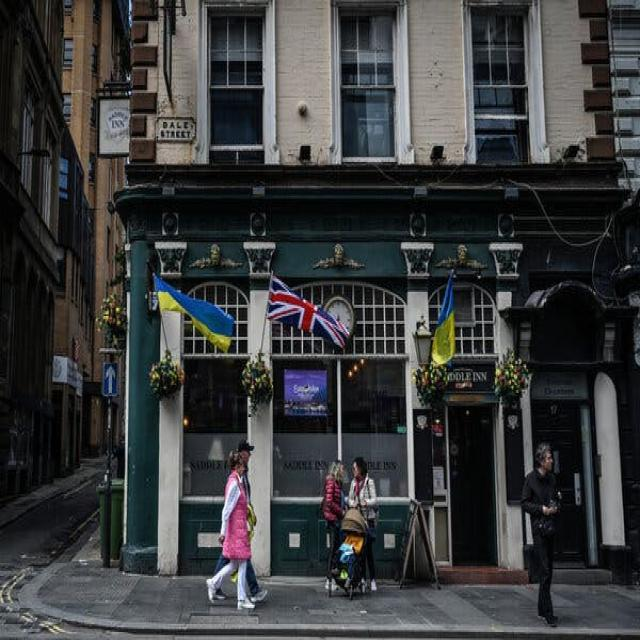Walking: (208, 443, 260, 612)
human: (523, 432, 562, 622)
loitering: (340, 453, 376, 602), (316, 454, 346, 590)
